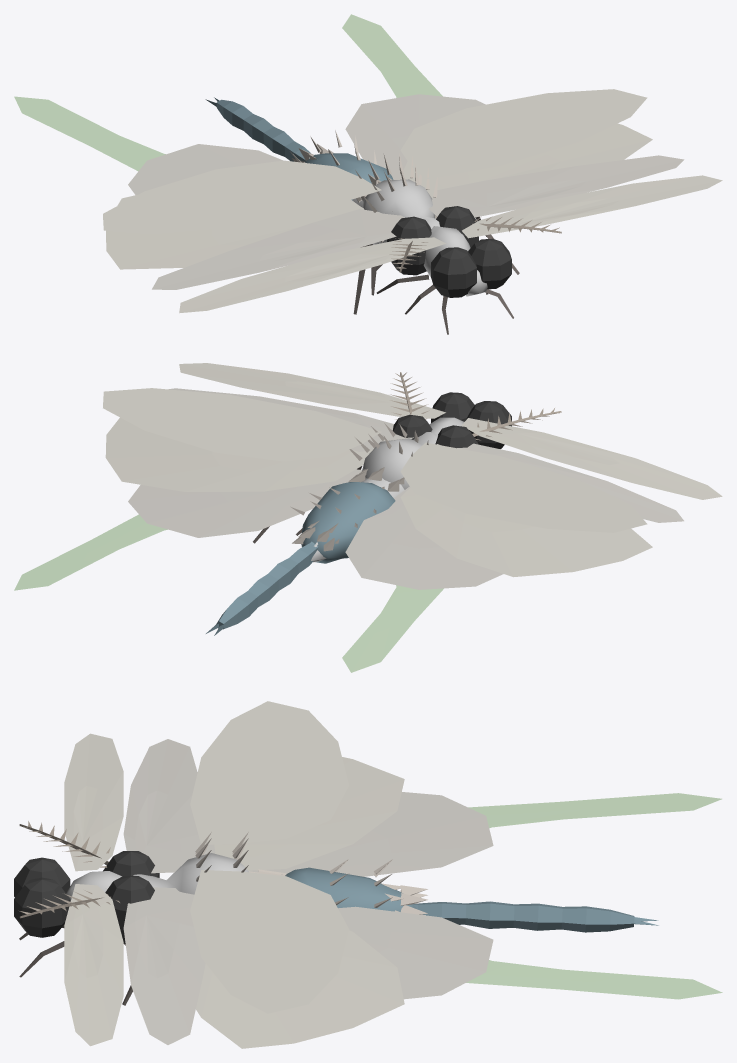
Rendered from insects.glb.
The picture shows the model from 3 angles, top to bottom: view 1: azimuth 30°, elevation 25°; view 2: azimuth 150°, elevation 25°; view 3: azimuth 270°, elevation 25°; orthographic projection. The views are drawn at different scales.
Visible parts, largest first — view 1: dragonfly, fly, moth; view 2: moth, fly, dragonfly; view 3: moth, fly, dragonfly.
Part boxes in pixels (x1=…): dragonfly: x1=152, y1=97, x2=722, y2=334; fly: x1=103, y1=89, x2=647, y2=314; moth: x1=14, y1=14, x2=652, y2=295; moth: x1=14, y1=372, x2=652, y2=672; fly: x1=103, y1=388, x2=647, y2=563; dragonfly: x1=169, y1=363, x2=722, y2=635; moth: x1=19, y1=757, x2=722, y2=1048; fly: x1=103, y1=701, x2=416, y2=1013; dragonfly: x1=14, y1=733, x2=658, y2=1046.
Size of the model in its own units: 1 by 0.1862 by 0.958.
